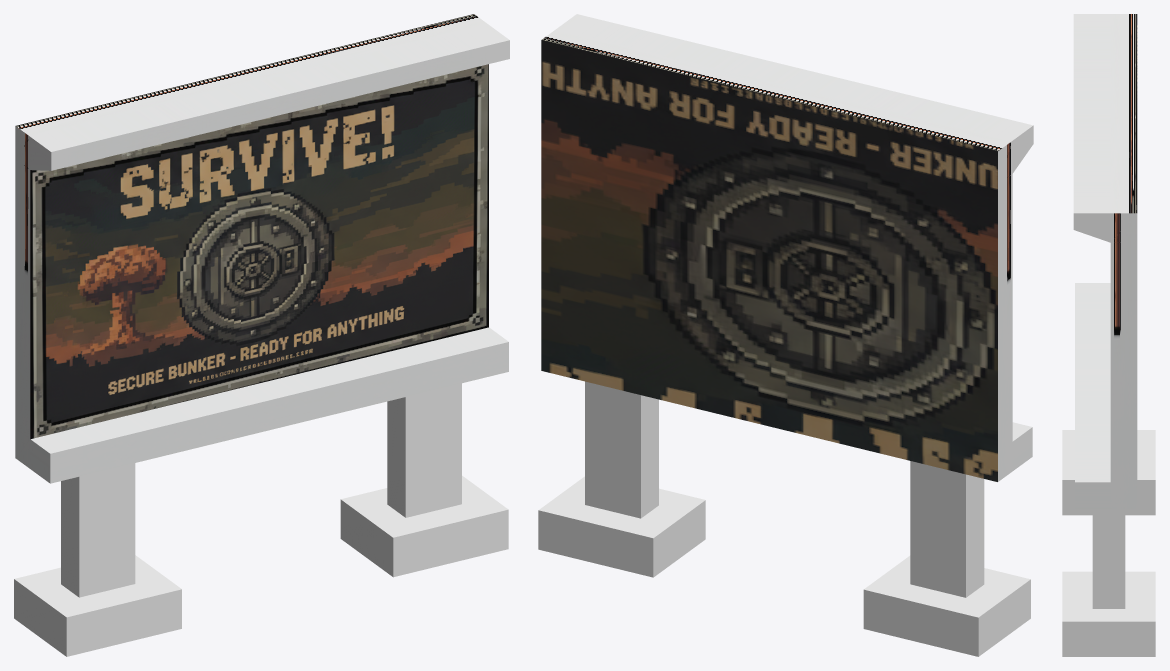
Rendered from Advertising edition.fbx.
3 renders of one model, left to right at view 1: azimuth 30°, elevation 25°; view 2: azimuth 150°, elevation 25°; view 3: azimuth 270°, elevation 25°, orthographic. The views are drawn at different scales.
Parts seen in each view (by area): view 1: pCube65, pCube67, pCube66; view 2: pCube65, pCube66, pCube67; view 3: pCube65, pCube67, pCube66.
Boxes of the visible parts, left/top/right/bottom form: pCube65: left=15, top=14, right=509, bottom=483; pCube67: left=340, top=383, right=508, bottom=577; pCube66: left=14, top=463, right=181, bottom=656; pCube65: left=541, top=14, right=1033, bottom=481; pCube66: left=863, top=461, right=1030, bottom=656; pCube67: left=538, top=381, right=705, bottom=577; pCube65: left=1073, top=14, right=1137, bottom=508; pCube67: left=1062, top=509, right=1155, bottom=656; pCube66: left=1062, top=430, right=1155, bottom=515.
Bounding box in the file's own units: 80.52 × 84.26 × 15.99.
